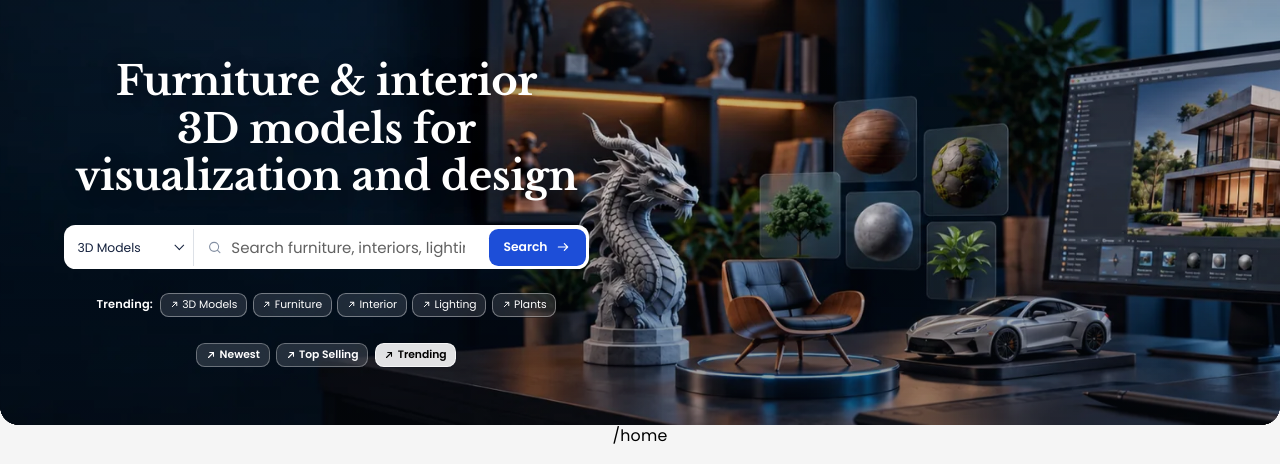
Test: MarketplaceHero › navigates when submitting the search input
This screenshot has width=1280, height=464.
Type "spaceship" into the search field named "Search marketplace" at x=360, y=247, box x1=231 y1=229 x2=489 y2=266
Then press Enter
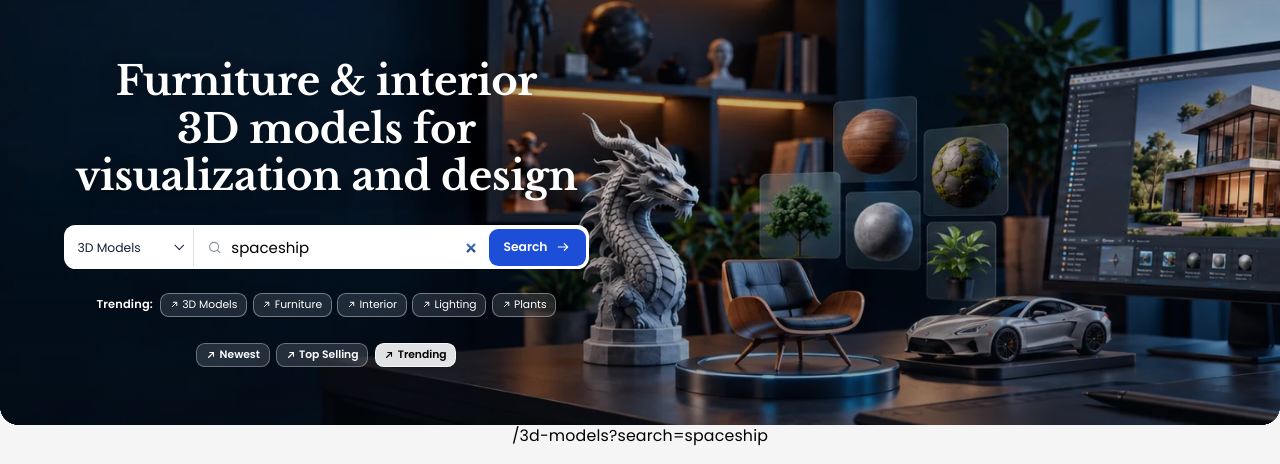
Check: the text with test id "location-probe" reads "/3d-models?search=spaceship", box x1=512 y1=424 x2=768 y2=447
Select "Plugins" in the dropdown named "Search category" at x=130, y=247, box x1=67 y1=229 x2=193 y2=266
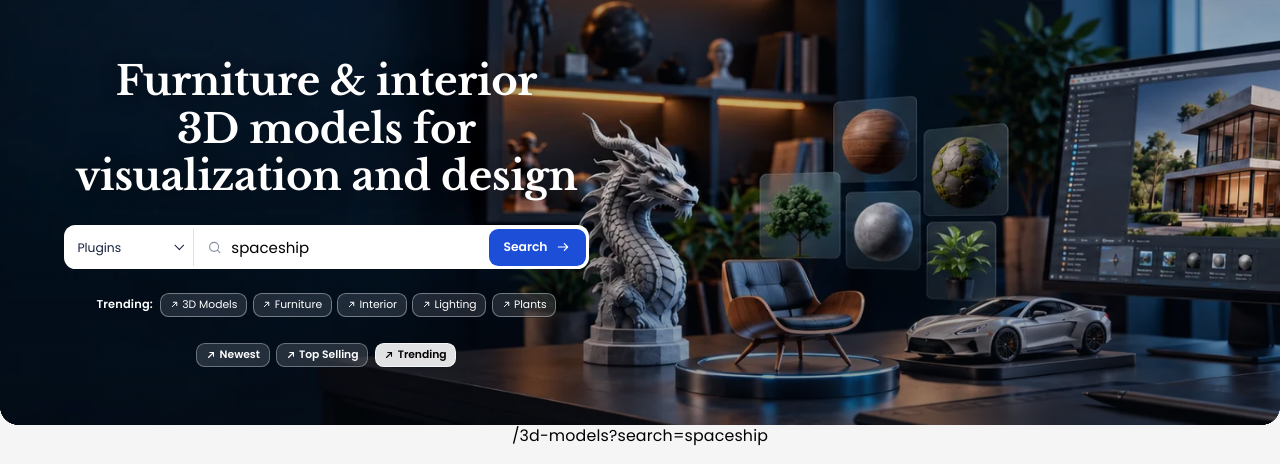
Replace the text in the search field named "Search marketplace" with "robot" at x=360, y=247, box x1=231 y1=229 x2=489 y2=266
Then press Enter
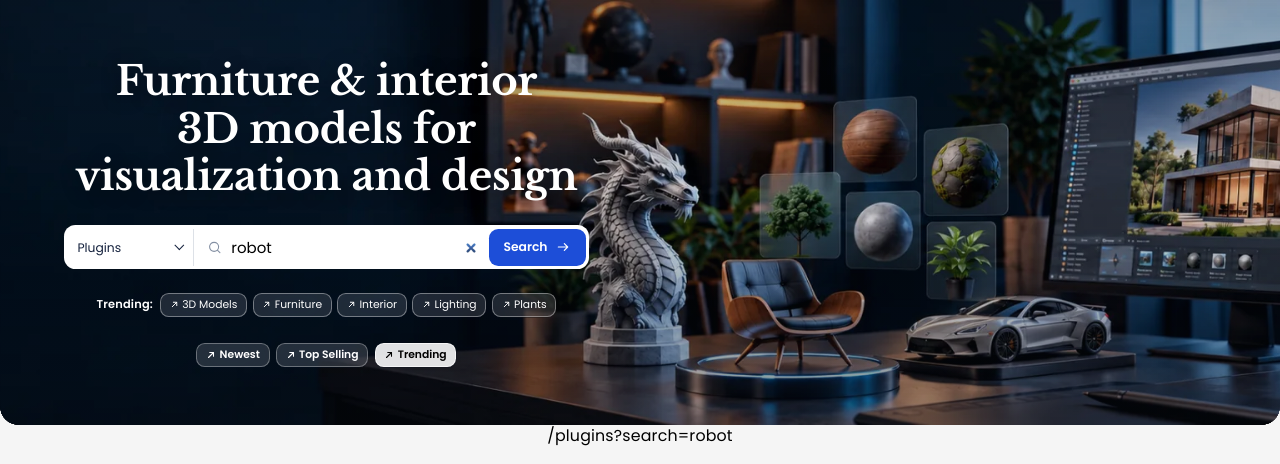
Check: the text with test id "location-probe" reads "/plugins?search=robot", box x1=547 y1=424 x2=733 y2=447
